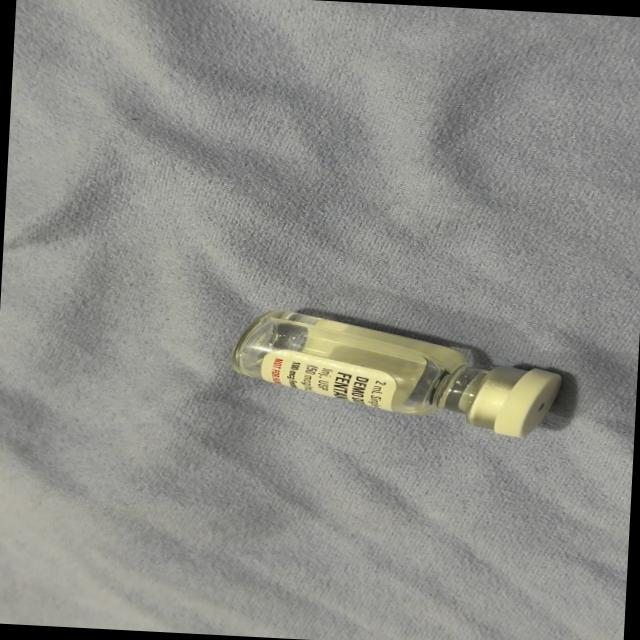fentanl_citrat: (234, 308, 560, 437)
